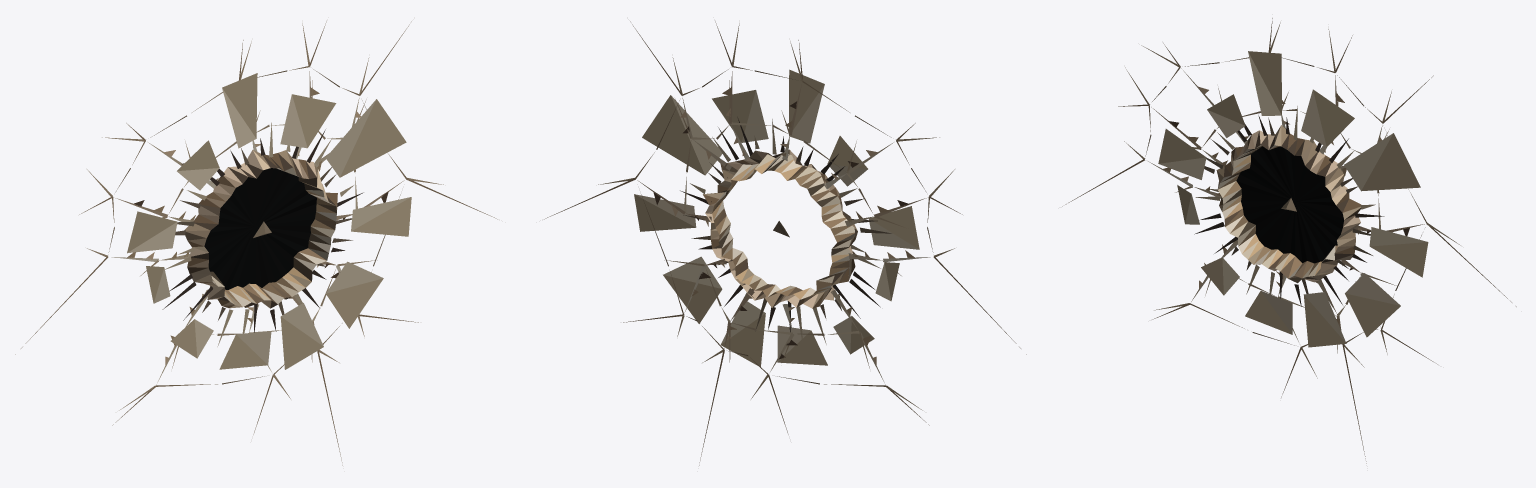
The model's file is impact.glb.
The picture shows the model from 3 angles, left to right: view 1: azimuth 30°, elevation 25°; view 2: azimuth 150°, elevation 25°; view 3: azimuth 330°, elevation 25°; orthographic projection. The views are drawn at different scales.
Visible parts, largest first — view 1: glass_shards, bullet_hole, bullet_center, fracture; view 2: glass_shards, bullet_hole, fracture; view 3: glass_shards, bullet_hole, bullet_center, fracture.
Part boxes in pixels (<box>): glass_shards: <box>127,73,411,369</box>; bullet_hole: <box>162,122,363,346</box>; bullet_center: <box>204,168,316,289</box>; fracture: <box>15,21,497,465</box>; glass_shards: <box>634,69,919,366</box>; bullet_hole: <box>680,117,891,346</box>; fracture: <box>544,21,1026,465</box>; glass_shards: <box>1158,51,1428,347</box>; bullet_hole: <box>1194,106,1384,307</box>; bullet_center: <box>1236,146,1343,263</box>; fracture: <box>1062,18,1516,463</box>.
Size of the model in its own units: 5.72 by 5.16 by 0.3376.
